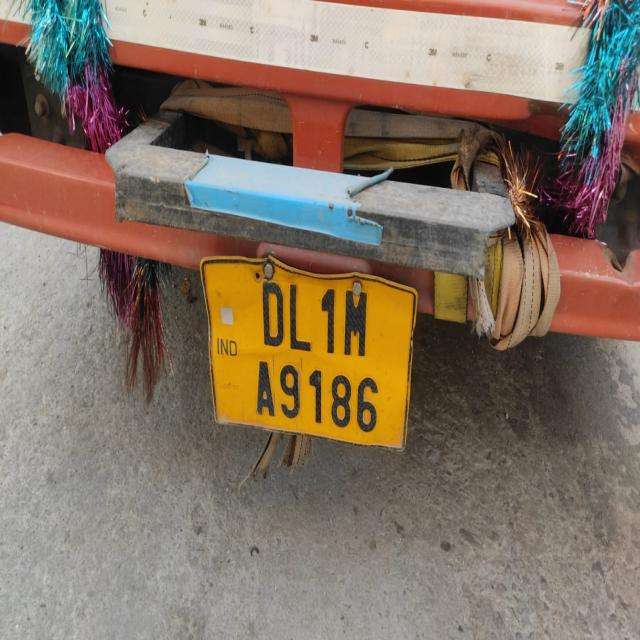License-plate: (208, 246, 415, 447)
